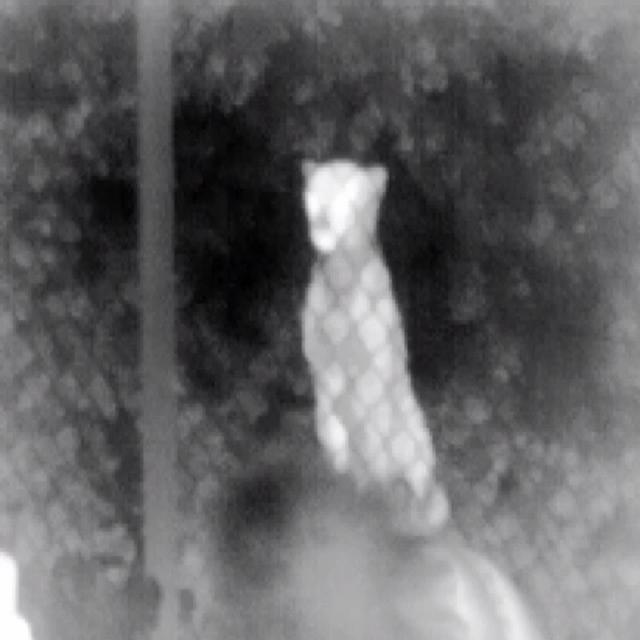cheetah: (301, 158, 434, 494)
